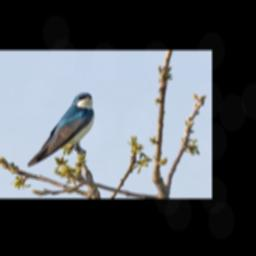Swallow: (24, 90, 98, 168)
